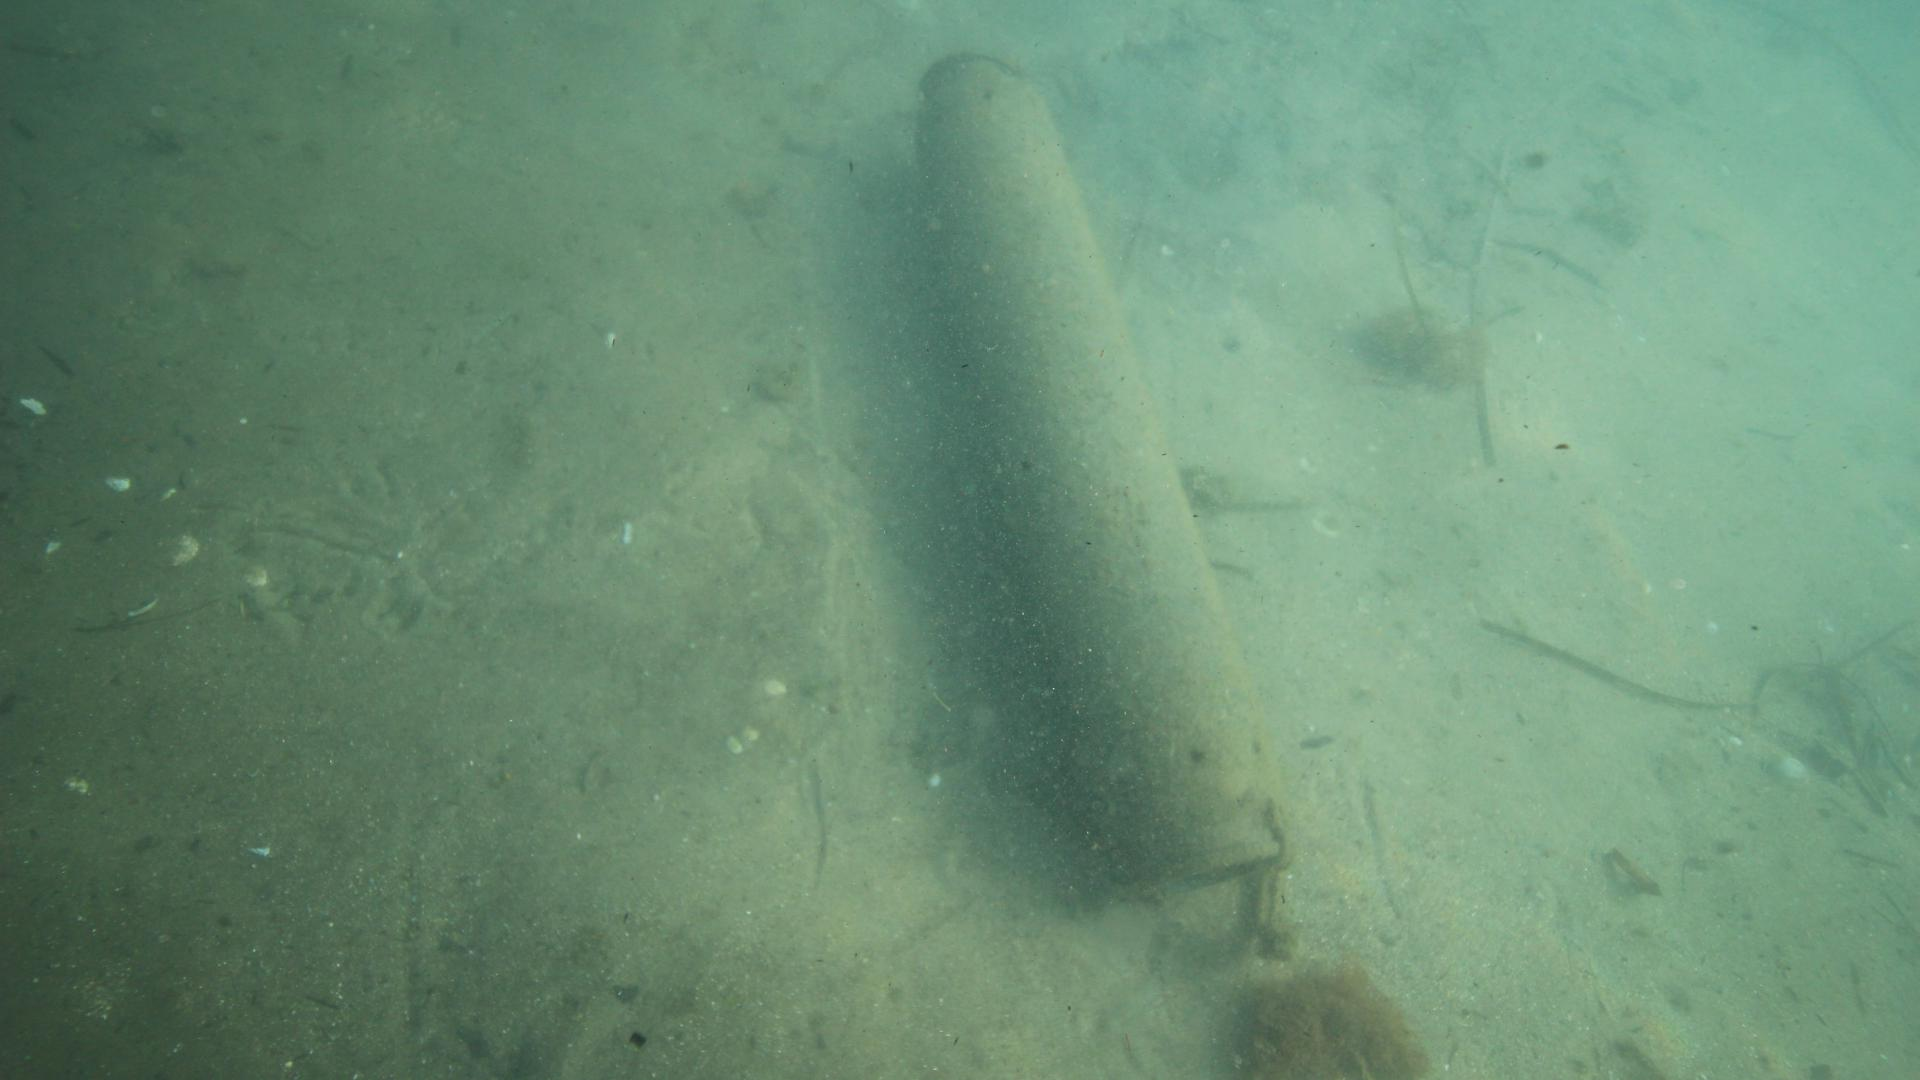eel fish trap: (909, 42, 1288, 891)
